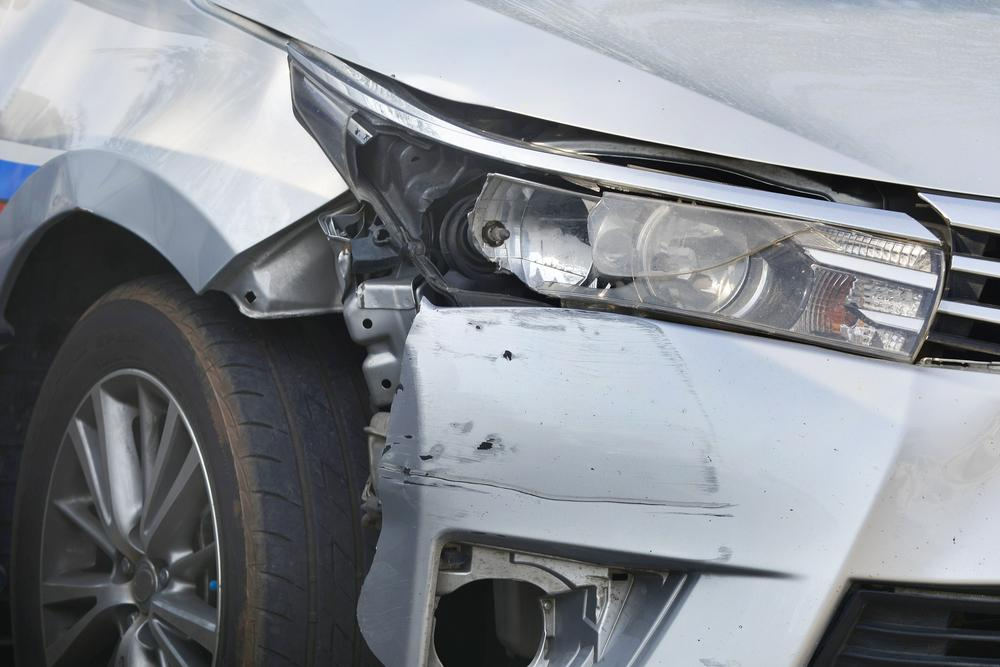lamp broken: (351, 113, 946, 361)
scratch: (381, 306, 738, 523)
